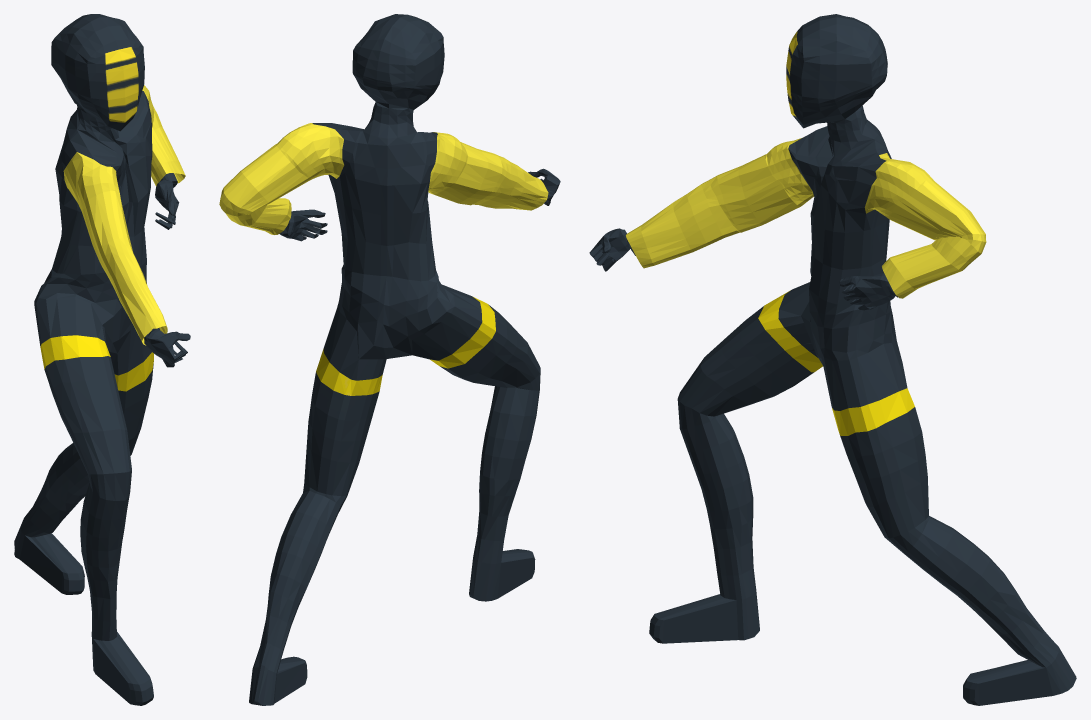
The model's file is Sentry_WB_000003.obj.
3 renders of one model, left to right at view 1: azimuth 30°, elevation 25°; view 2: azimuth 150°, elevation 25°; view 3: azimuth 270°, elevation 25°, orthographic. The views are drawn at different scales.
Visible parts, largest first — view 1: Cube; view 2: Cube; view 3: Cube.
Boxes of the visible parts, x1,y1,x2,y2 form: Cube: (14, 14, 190, 705); Cube: (219, 14, 560, 705); Cube: (589, 14, 1076, 705).
Bounding box in the file's own units: 1.18 × 3.66 × 2.43.
